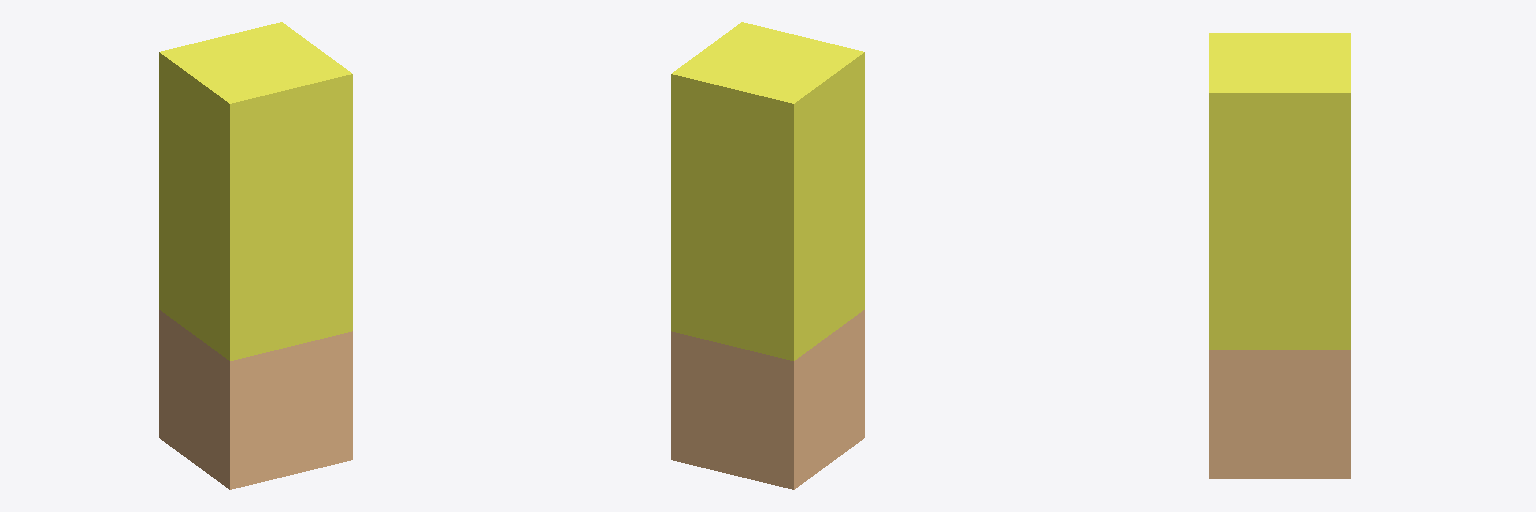
3 views of the same model, side by side, from view 1: azimuth 30°, elevation 25°; view 2: azimuth 150°, elevation 25°; view 3: azimuth 270°, elevation 25° (orthographic).
Size of the model in its own units: 1 by 3 by 1.
1 materials, 1 textured.